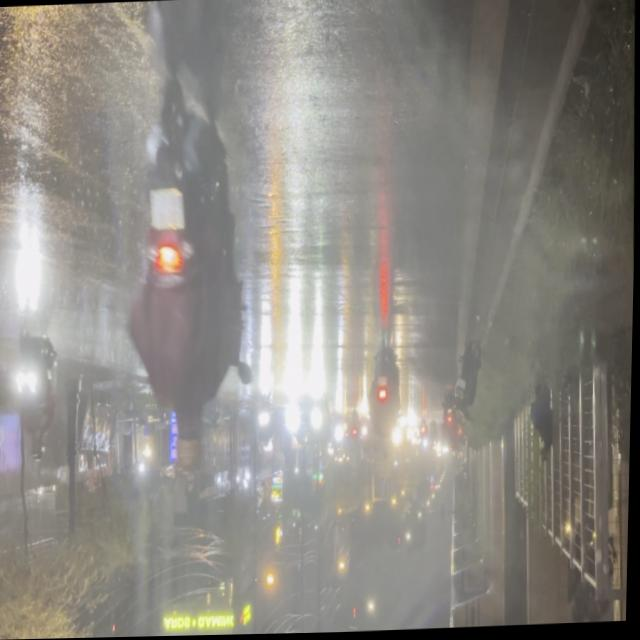helmet: (172, 418, 208, 473)
licenseplate: (116, 82, 268, 475)
nohelmet: (147, 188, 185, 230)
